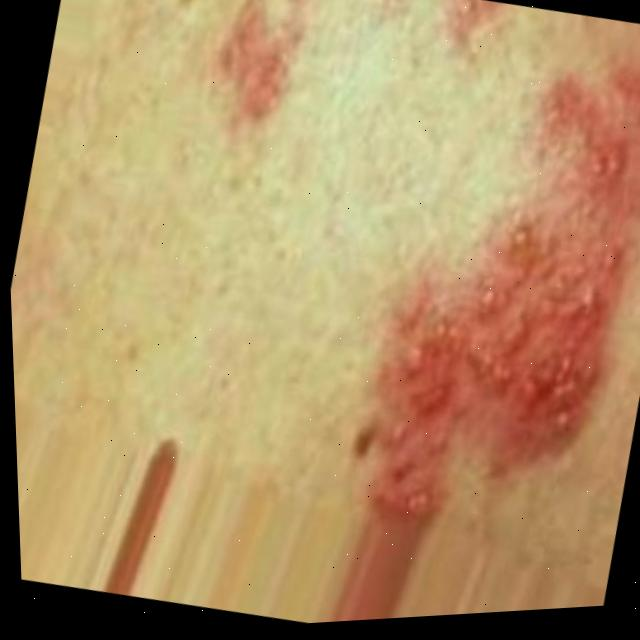Shingles: (327, 0, 640, 561), (203, 0, 309, 128)
